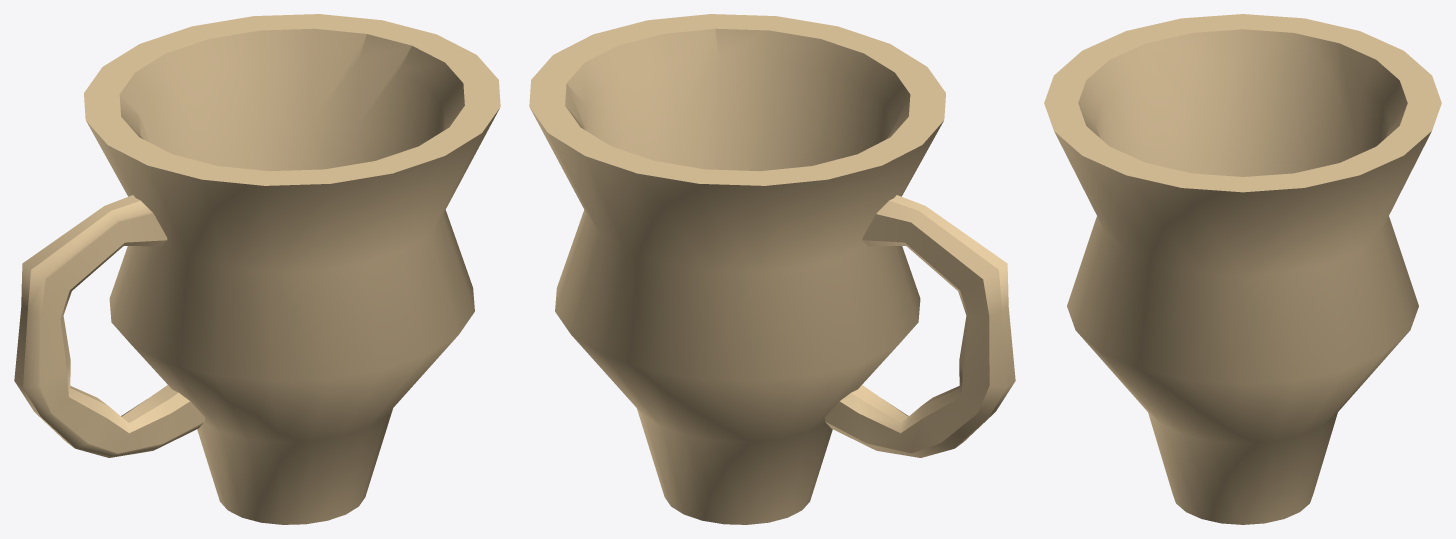
The model's file is cup.fbx.
3 renders of one model, left to right at view 1: azimuth 30°, elevation 25°; view 2: azimuth 150°, elevation 25°; view 3: azimuth 270°, elevation 25°, orthographic.
Visible parts, largest first — view 1: Cup; view 2: Cup; view 3: Cup.
Part boxes in pixels (bbox=[...]): Cup: bbox=[14, 14, 500, 524]; Cup: bbox=[529, 14, 1015, 524]; Cup: bbox=[1044, 14, 1441, 524].
Size of the model in its own units: 1.93 by 1.59 by 1.47.
